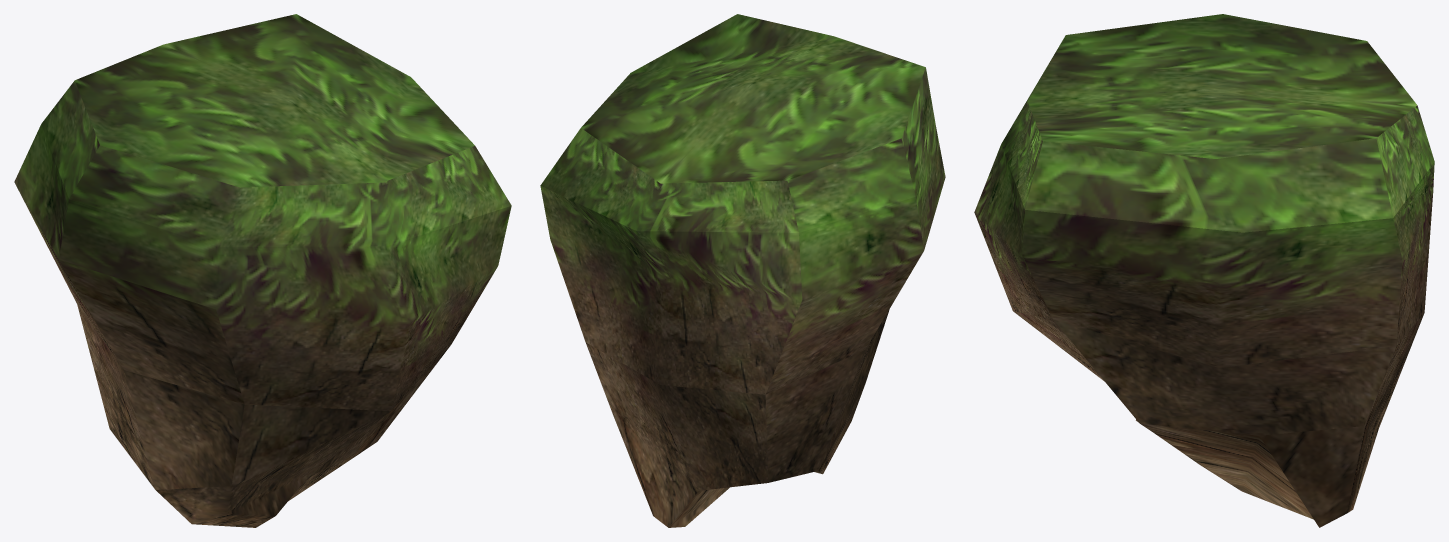
File: Platform1.fbx
The picture shows the model from 3 angles, left to right: view 1: azimuth 30°, elevation 25°; view 2: azimuth 150°, elevation 25°; view 3: azimuth 270°, elevation 25°; orthographic projection. The views are drawn at different scales.
Visible parts, largest first — view 1: Cube; view 2: Cube; view 3: Cube.
Boxes of the visible parts, <box> form: Cube: <box>14,14,511,527</box>; Cube: <box>540,14,945,527</box>; Cube: <box>974,14,1434,527</box>.
Size of the model in its own units: 2389 by 2656 by 2601.
1 material, 1 textured.
